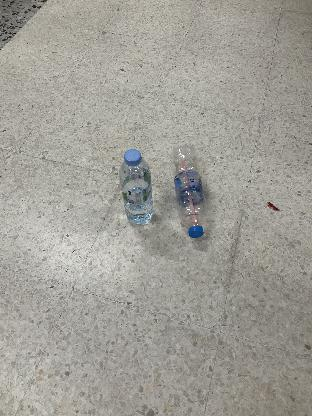Plastic Bottle: (172, 146, 208, 240), (118, 150, 154, 226)
